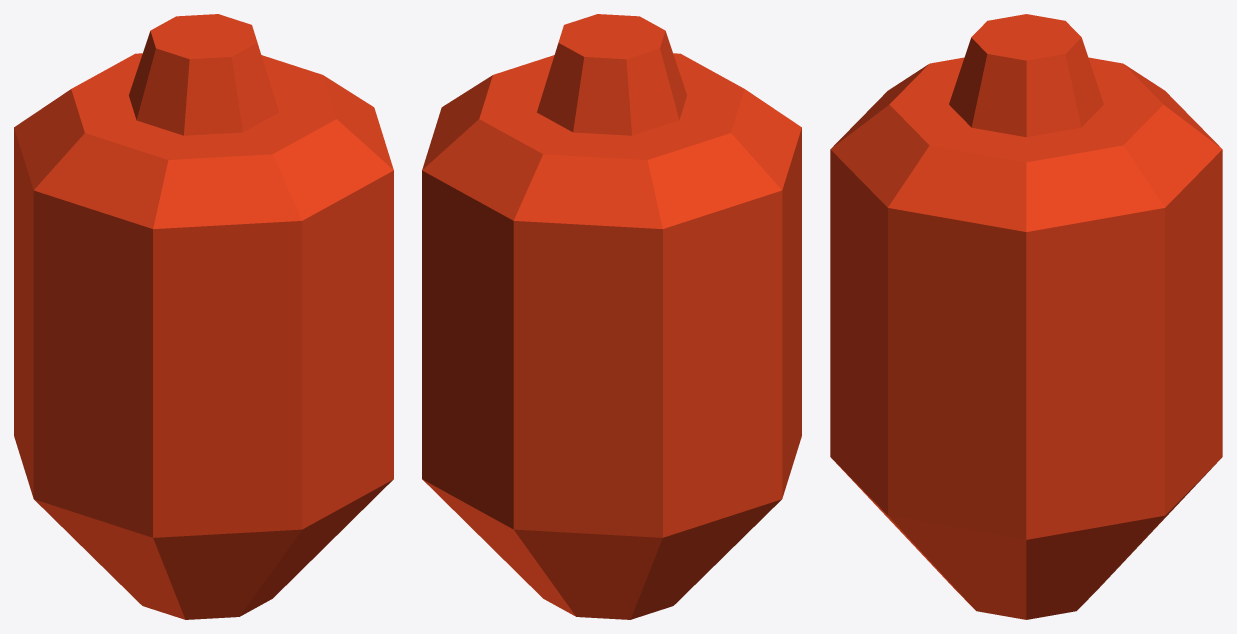
File: grenade.fbx
The picture shows the model from 3 angles, left to right: view 1: azimuth 30°, elevation 25°; view 2: azimuth 150°, elevation 25°; view 3: azimuth 270°, elevation 25°; orthographic projection.
Visible parts, largest first — view 1: Grenade; view 2: Grenade; view 3: Grenade.
Part boxes in pixels (<box>): Grenade: <box>14,14,393,619</box>; Grenade: <box>422,14,801,619</box>; Grenade: <box>830,14,1222,619</box>.
Bounding box in the file's own units: 200 × 311 × 200.
